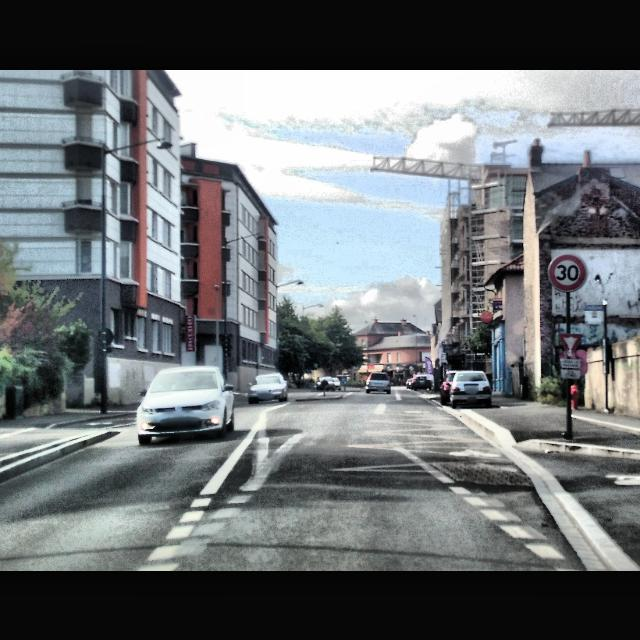speed_30: (549, 254, 585, 290)
